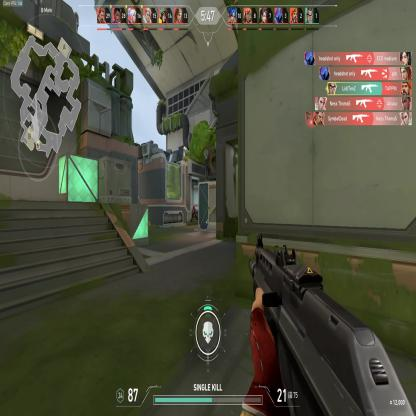enemy: (190, 203, 198, 222)
